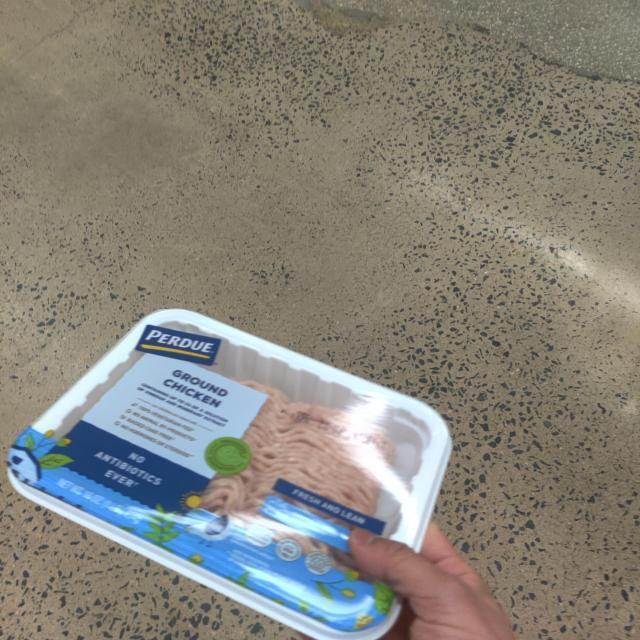Meat: (7, 305, 452, 640)
